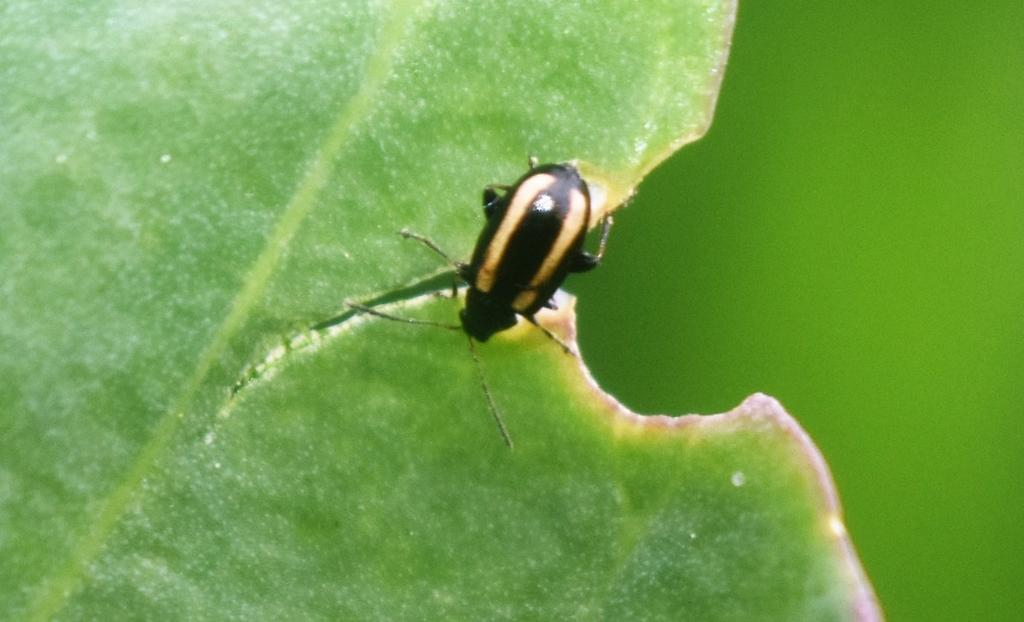flea_beetle: (304, 64, 692, 479)
